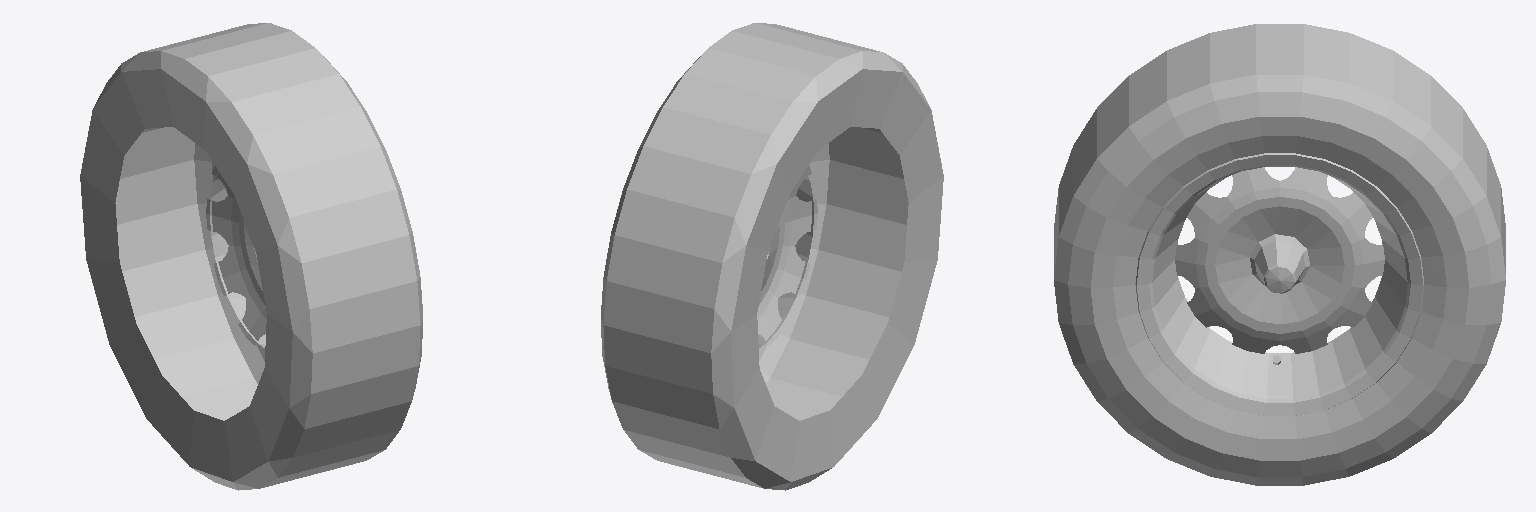
The model's file is car_tire.obj.
The picture shows the model from 3 angles: view 1: azimuth 30°, elevation 25°; view 2: azimuth 150°, elevation 25°; view 3: azimuth 270°, elevation 25°; orthographic projection.
Size of the model in its own units: 0.2377 by 0.6429 by 0.6434.